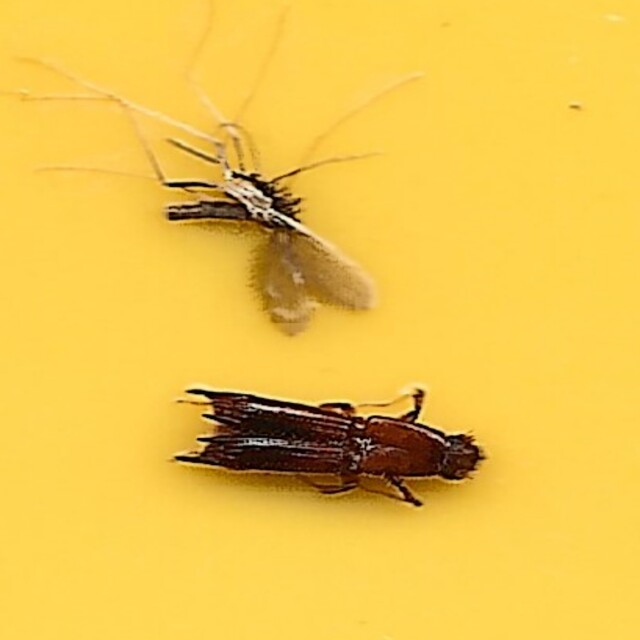Coleoptera: (171, 379, 484, 515)
Nematocera: (156, 125, 372, 337)
